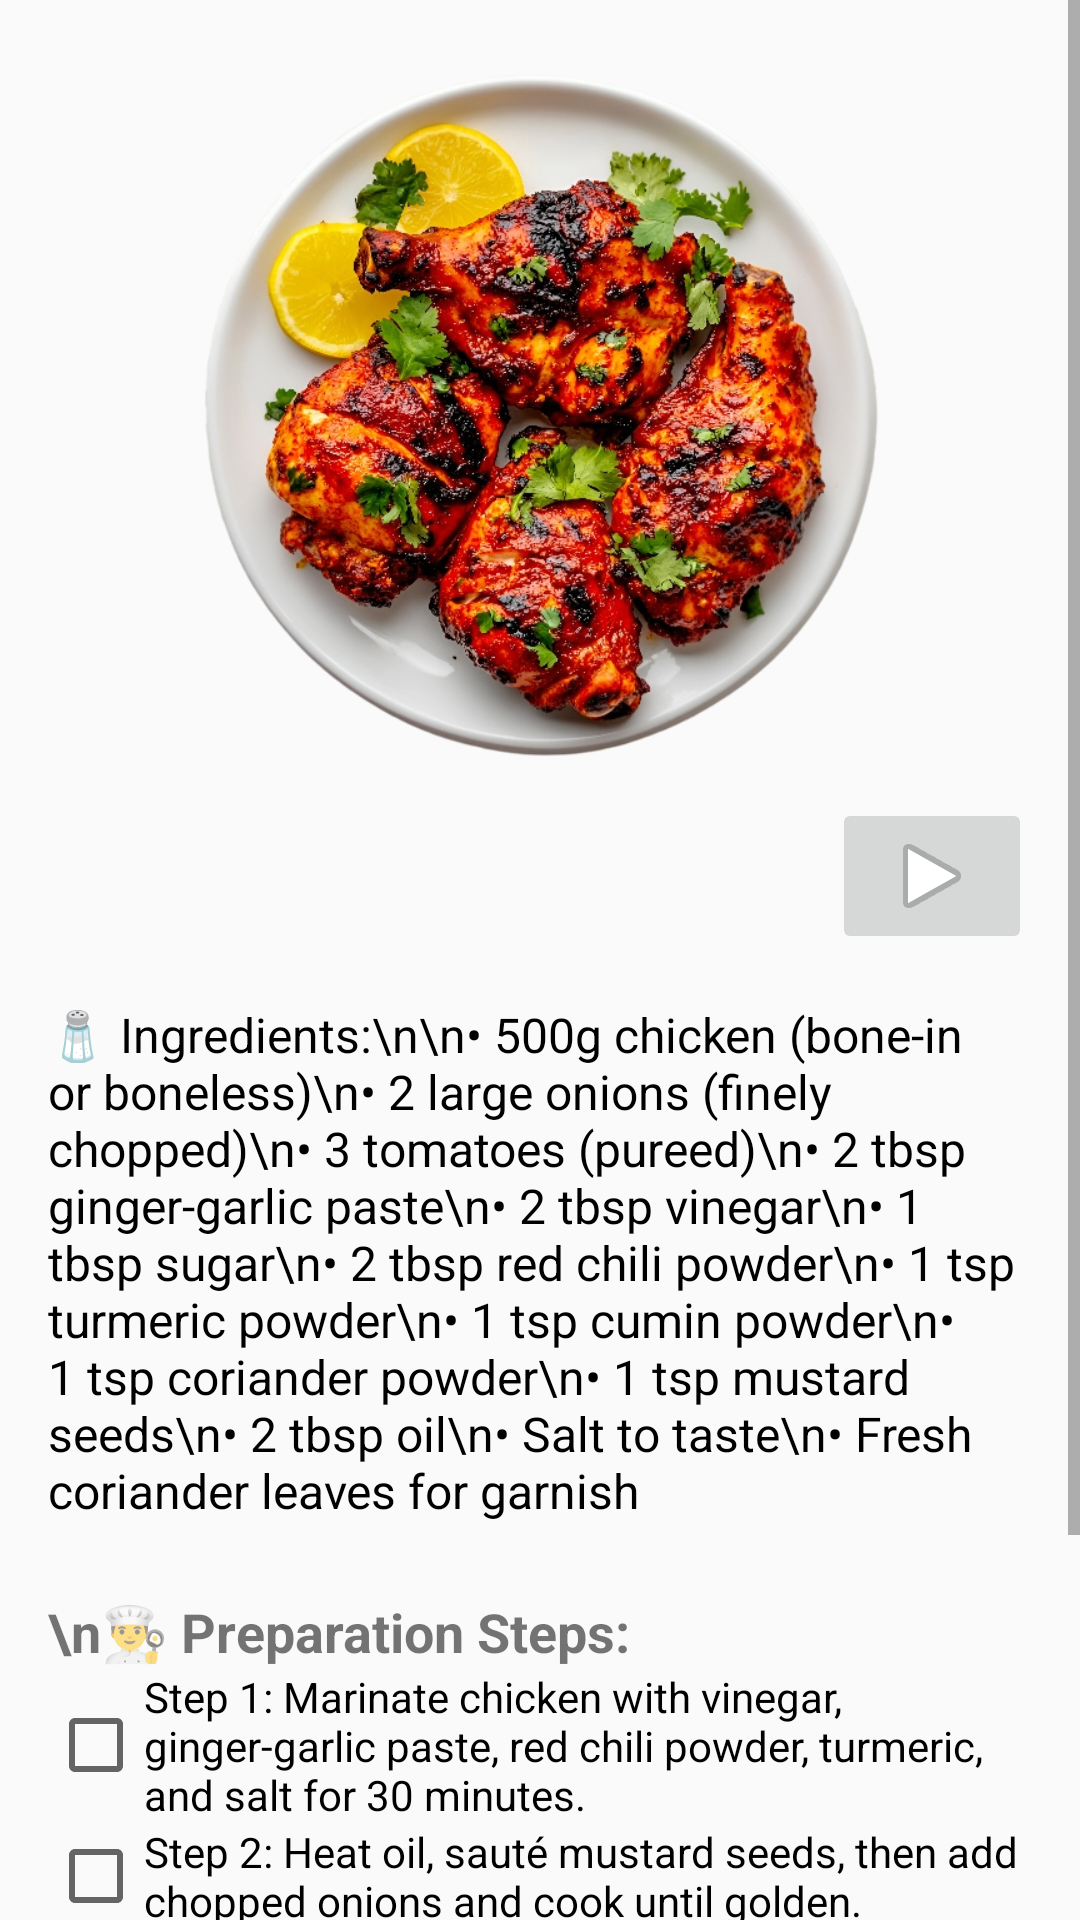

Locate icon controls on the screen. Image size 1080px x 1920px, boxes as (x1, y1, x2, y2).
play: (844, 816, 1020, 936)
